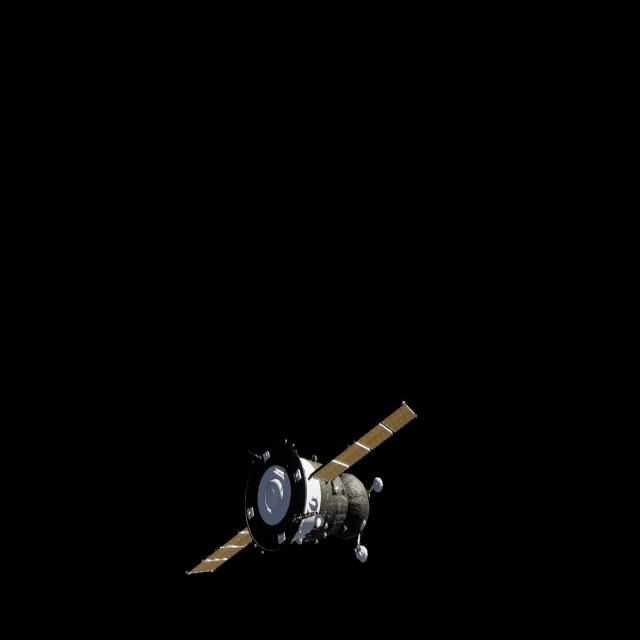Satellites revolving around earth: (183, 398, 419, 580)
